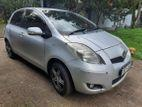car: (4, 8, 133, 97)
